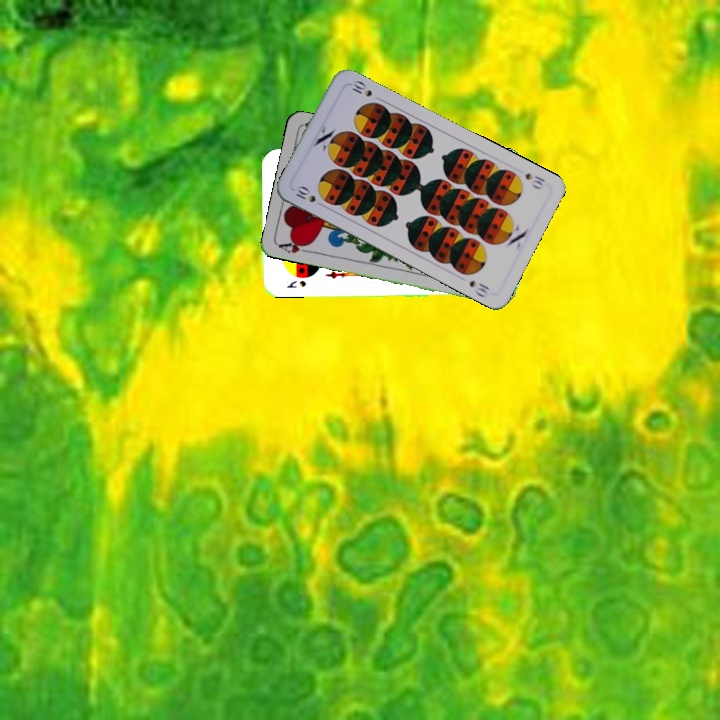HA: (275, 236, 316, 256)
S10: (290, 182, 318, 205), (520, 169, 548, 192)
SK: (282, 277, 309, 290)
